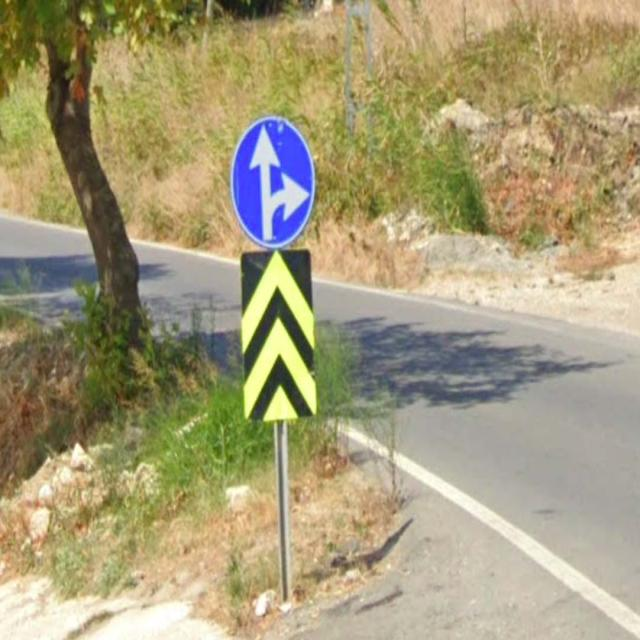ilerisag: (230, 115, 314, 249)
